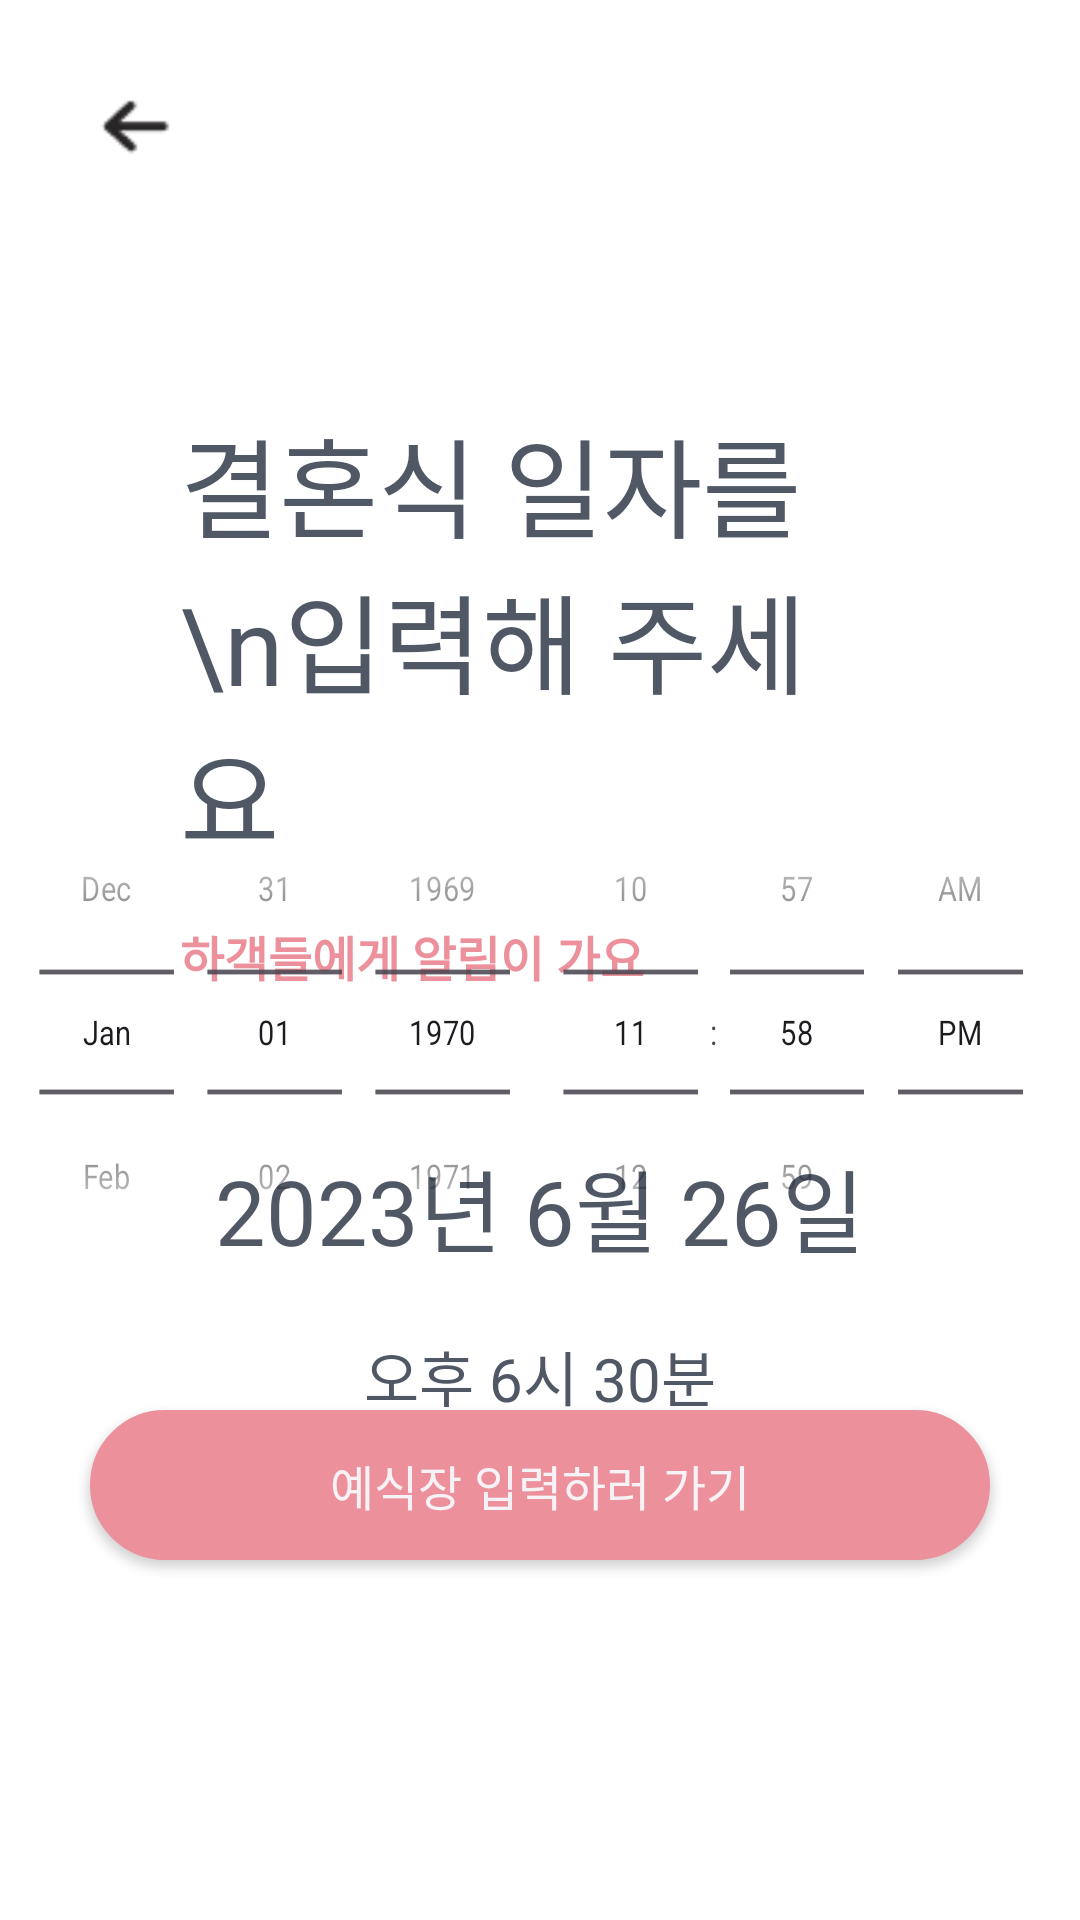

Icon click points for this 1080 x 1920 phone screenshot, format (x=x, y=y):
back arrow: (x=136, y=126)
